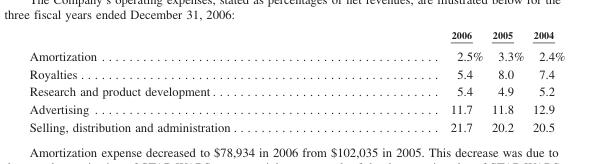table: (28, 29, 564, 133)
table column: (28, 29, 342, 133), (342, 29, 486, 133), (486, 29, 527, 133), (527, 29, 564, 133)
table column header: (28, 29, 564, 44)
table row: (28, 44, 564, 64), (28, 64, 564, 82), (28, 99, 564, 117), (28, 82, 564, 99), (28, 117, 564, 133), (28, 29, 564, 44)
